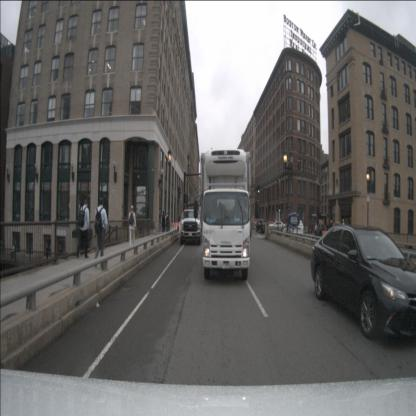human-pedestrian-adult: (94, 197, 108, 268), (76, 199, 90, 259), (128, 205, 137, 248), (160, 210, 166, 235), (165, 212, 170, 233), (11, 244, 15, 259), (315, 221, 318, 240)
vehicle-car: (310, 224, 416, 338), (180, 207, 201, 246), (282, 219, 304, 241), (269, 221, 288, 232), (256, 219, 269, 234)
vehicle-truck: (200, 150, 252, 280), (308, 214, 340, 238)
